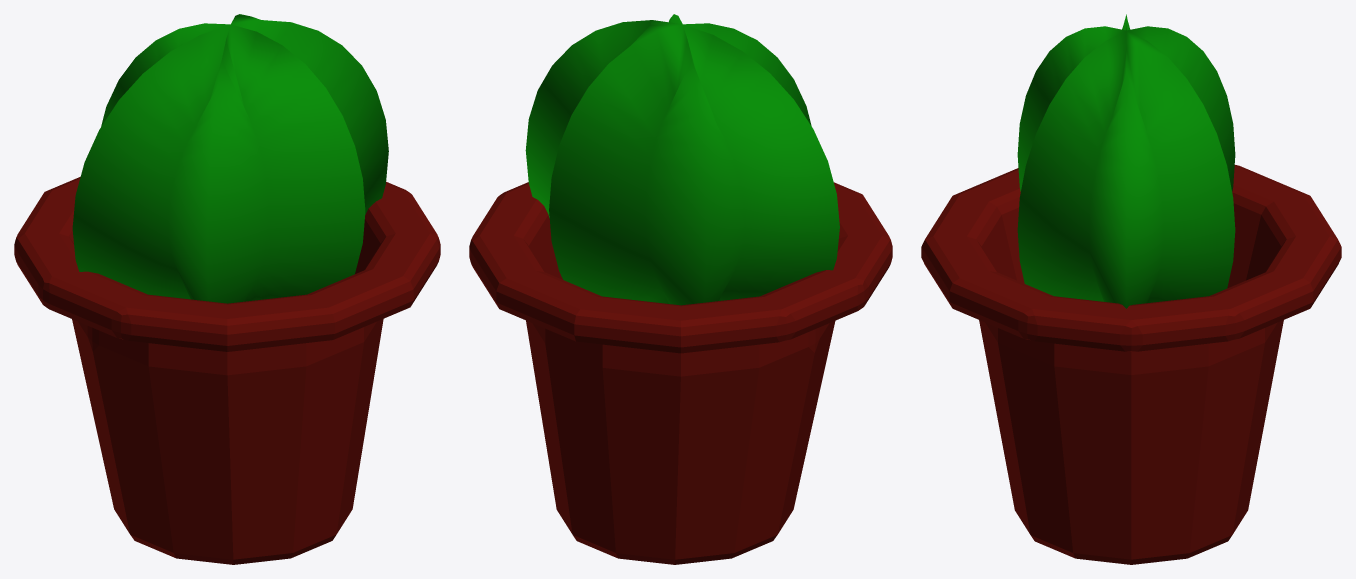
Rendered from Plant2.fbx.
3 views of the same model, side by side, from view 1: azimuth 30°, elevation 25°; view 2: azimuth 150°, elevation 25°; view 3: azimuth 270°, elevation 25° (orthographic). The views are drawn at different scales.
Parts seen in each view (by area): view 1: PlantSphere; view 2: PlantSphere; view 3: PlantSphere.
Boxes of the visible parts, x1,y1,x2,y2 form: PlantSphere: [14, 14, 440, 564]; PlantSphere: [469, 14, 892, 564]; PlantSphere: [921, 14, 1341, 564].
Bounding box in the file's own units: 14.06 × 18.16 × 14.18.
